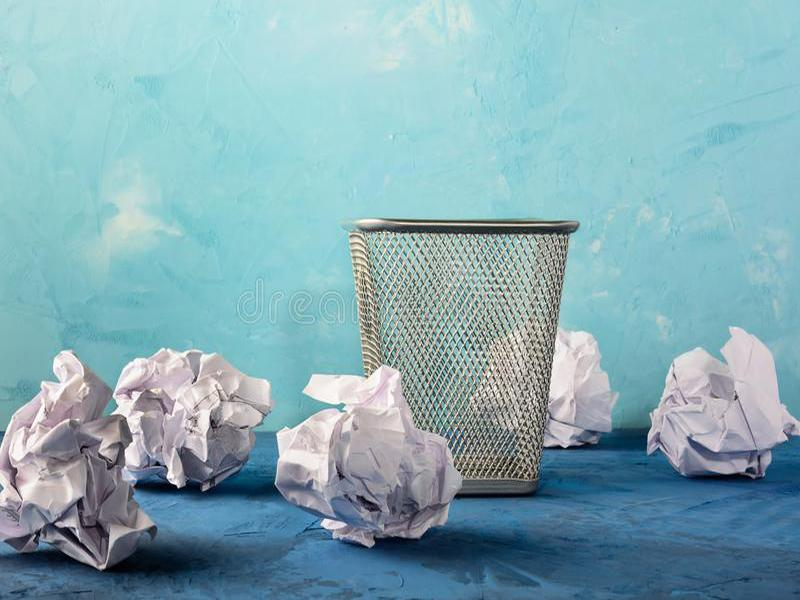paper: (1, 345, 164, 574), (270, 364, 467, 552), (108, 339, 277, 504), (637, 318, 800, 488)
